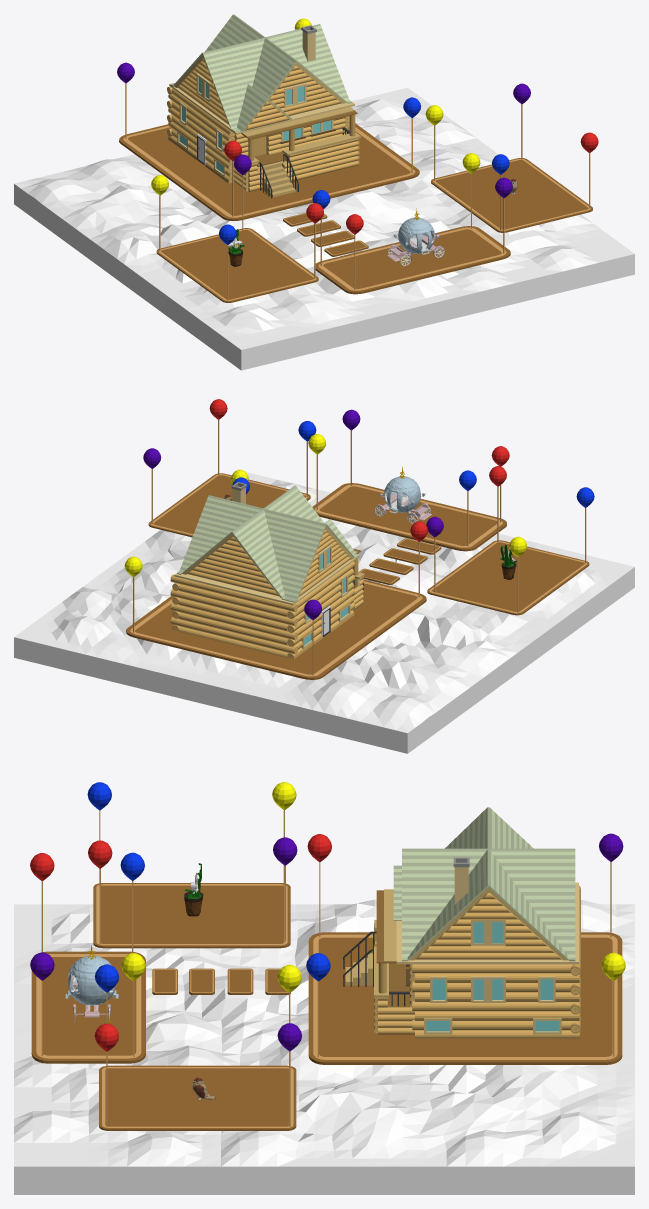
3 views of the same model, one above another, from view 1: azimuth 30°, elevation 25°; view 2: azimuth 150°, elevation 25°; view 3: azimuth 270°, elevation 25° (orthographic). The views are drawn at different scales.
Parts seen in each view (by area): view 1: Cube.013, Cube.1516, VEHICLES_FANTASY_CARRIAGE; view 2: Cube.013, Cube.1516, VEHICLES_FANTASY_CARRIAGE; view 3: Cube.013, Cube.1516, VEHICLES_FANTASY_CARRIAGE, OBJRANDOM_MONJA BLANCA.
Part boxes in pixels (x1,y1,x2,y2): Cube.013: [14, 18, 634, 370]; Cube.1516: [167, 14, 360, 198]; VEHICLES_FANTASY_CARRIAGE: [387, 208, 444, 265]; Cube.013: [14, 399, 634, 753]; Cube.1516: [170, 482, 364, 659]; VEHICLES_FANTASY_CARRIAGE: [374, 467, 431, 524]; Cube.013: [14, 782, 634, 1194]; Cube.1516: [343, 807, 580, 1038]; VEHICLES_FANTASY_CARRIAGE: [65, 945, 118, 1021]; OBJRANDOM_MONJA BLANCA: [184, 863, 203, 916].
Bounding box in the file's own units: 4000 × 1789 × 4000.
Materials: 35 (2 with a texture image).
